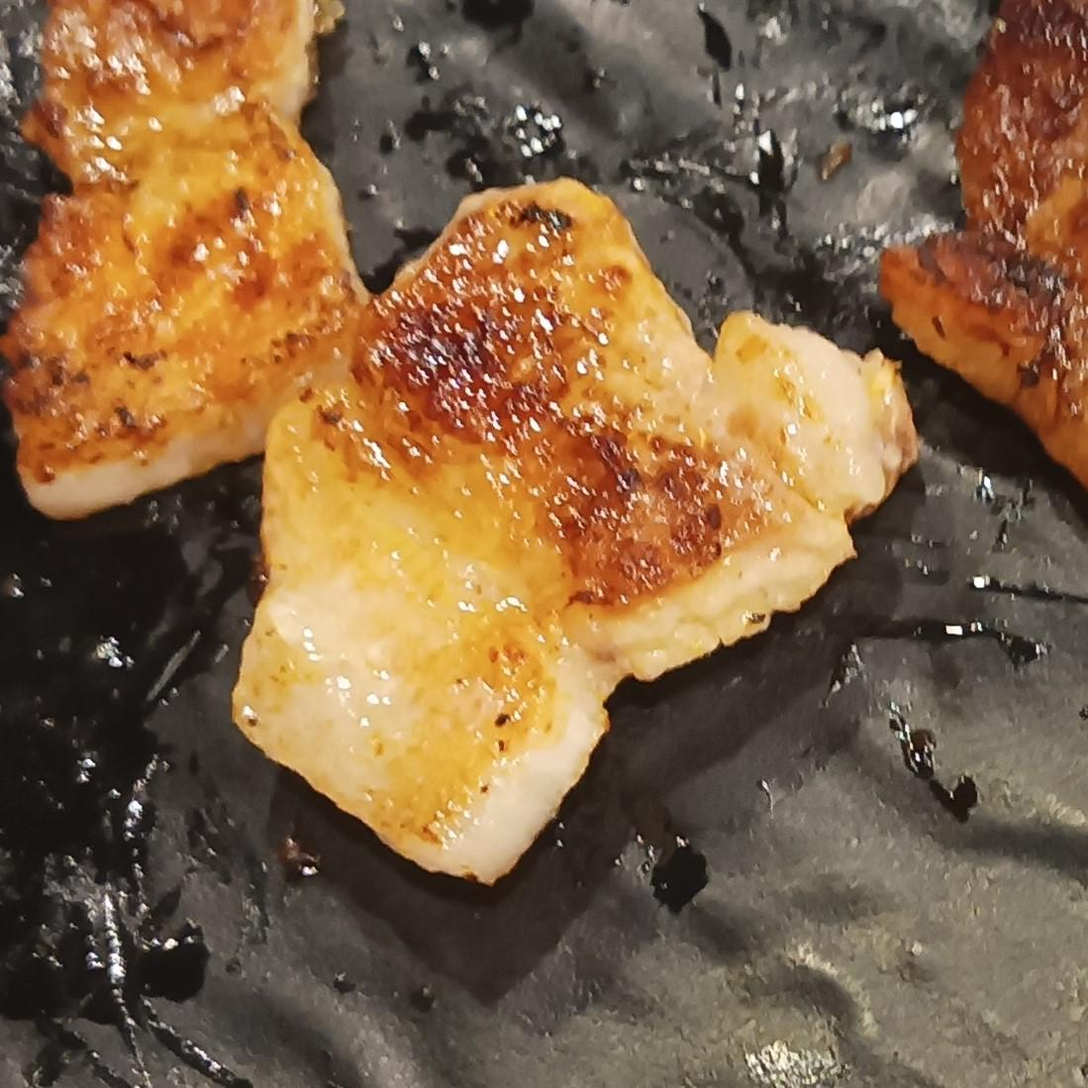Well-Cooked: (229, 181, 922, 888), (0, 0, 371, 524), (877, 0, 1087, 494)
